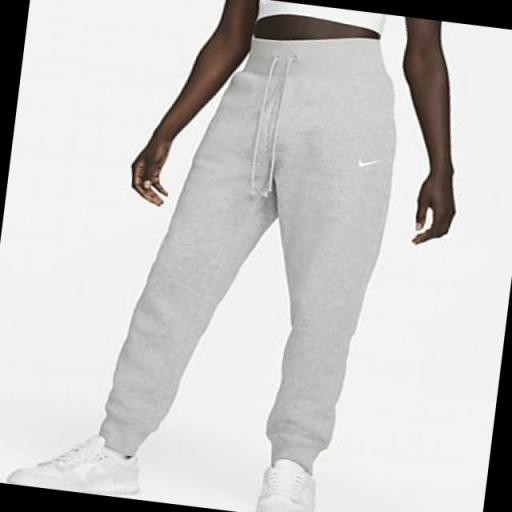Nike: (343, 148, 388, 173)
